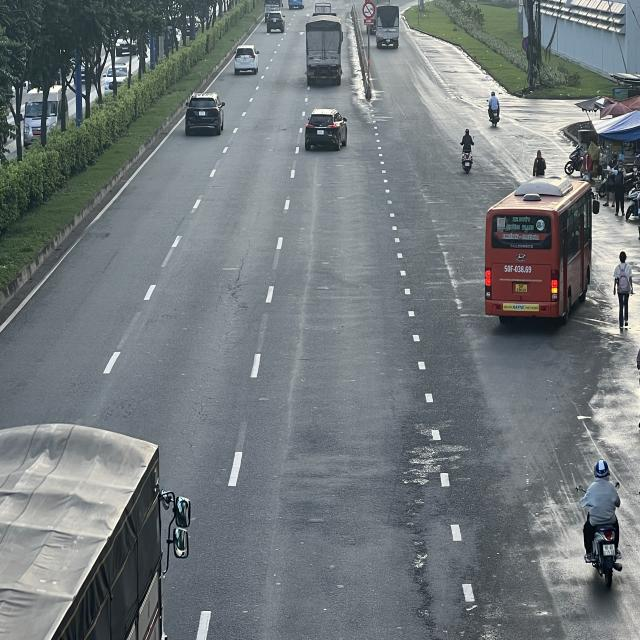car: (302, 110, 347, 152), (185, 92, 226, 135), (234, 45, 259, 75)
coach: (487, 173, 596, 322)
truck: (0, 425, 185, 640), (304, 15, 341, 82), (376, 4, 401, 49)
